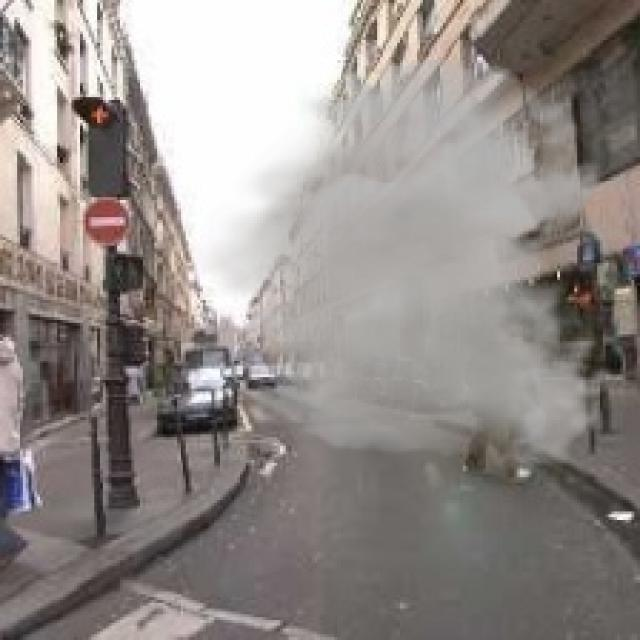smoke: (189, 60, 614, 471)
